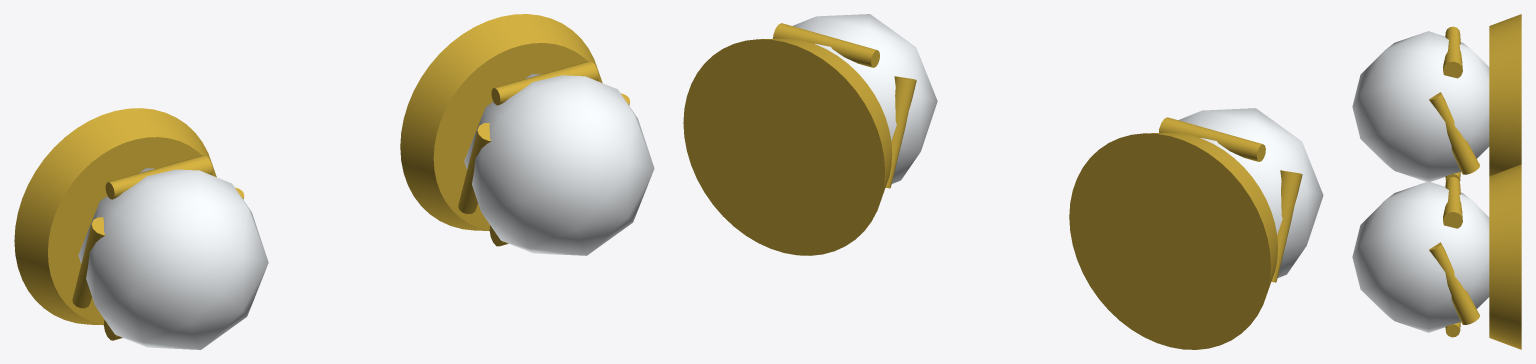
Rendered from aur-007-cassia-studs.glb.
3 views of the same model, side by side, from view 1: azimuth 30°, elevation 25°; view 2: azimuth 150°, elevation 25°; view 3: azimuth 270°, elevation 25° (orthographic). The views are drawn at different scales.
Visible parts, largest first — view 1: stud_diamond (×2), gold_prong_base (×2), gold_prong (×4); view 2: gold_prong_base (×2), stud_diamond (×2), gold_prong (×4); view 3: stud_diamond (×2), gold_prong_base (×2), gold_prong (×5).
Boxes of the visible parts, box(x1,y1,x2,y2) form: stud_diamond (×2): box(78, 74, 654, 349); gold_prong_base (×2): box(14, 14, 602, 325); gold_prong (×4): box(72, 61, 598, 308); gold_prong_base (×2): box(683, 38, 1277, 349); stud_diamond (×2): box(793, 14, 1323, 277); gold_prong (×4): box(773, 23, 1302, 282); stud_diamond (×2): box(1352, 31, 1489, 332); gold_prong_base (×2): box(1489, 14, 1521, 349); gold_prong (×5): box(1429, 26, 1479, 337).
Bounding box in the file's own units: 1.34 × 0.46 × 0.4188.
